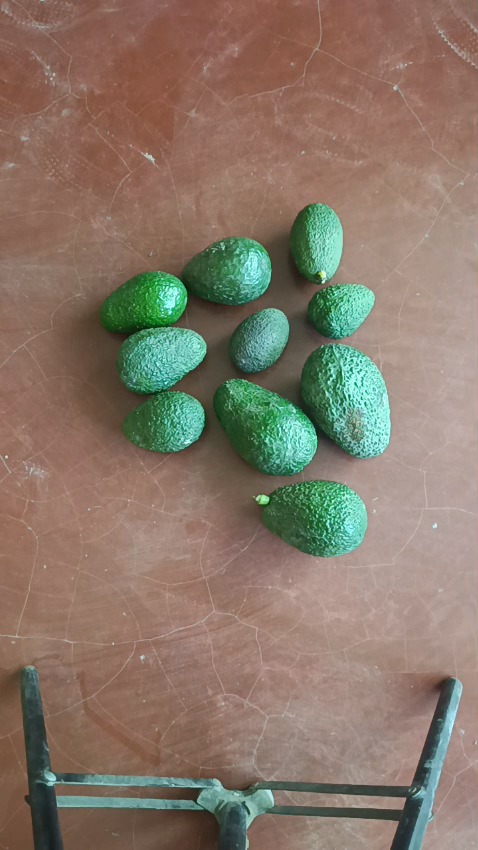Primera: (300, 343, 392, 458), (213, 379, 318, 474), (257, 480, 369, 557)
Segunda: (181, 237, 273, 306), (116, 326, 207, 393), (98, 270, 189, 334), (121, 390, 207, 453)
Tercera: (289, 203, 343, 283), (228, 307, 289, 374), (306, 282, 376, 339)
